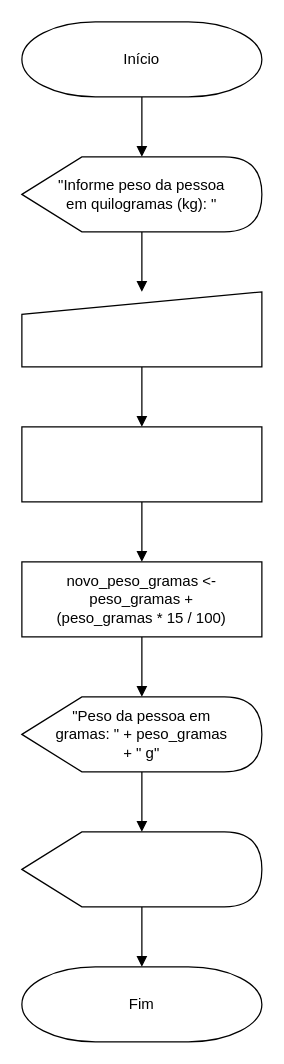
This 284x1064 diagram has some shape labels left out. The shapes that lost their labels are listed below. From the top down, each one's centre as x and y in pixels, then its label:
(x=141, y=329): peso_quilograma
(x=141, y=464): peso_gramas <- peso_quilograma * 1000
(x=141, y=869): "Novo peso em gramas com aumento de 15%: " + novo_peso_gramas + " g"
